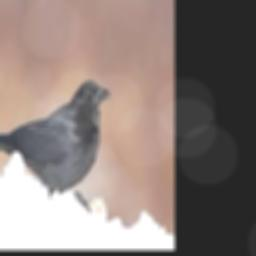Crow: (0, 80, 111, 216)
